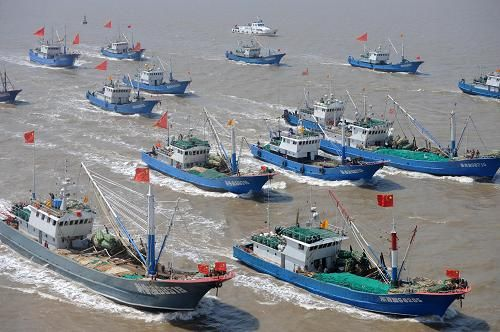otherboat: (1, 162, 235, 313), (236, 195, 474, 318), (281, 85, 499, 180), (137, 114, 273, 195), (247, 120, 390, 184), (78, 69, 162, 116), (348, 27, 424, 71), (121, 59, 192, 97), (21, 25, 80, 65), (225, 37, 286, 68), (97, 34, 146, 62), (231, 13, 276, 36)
